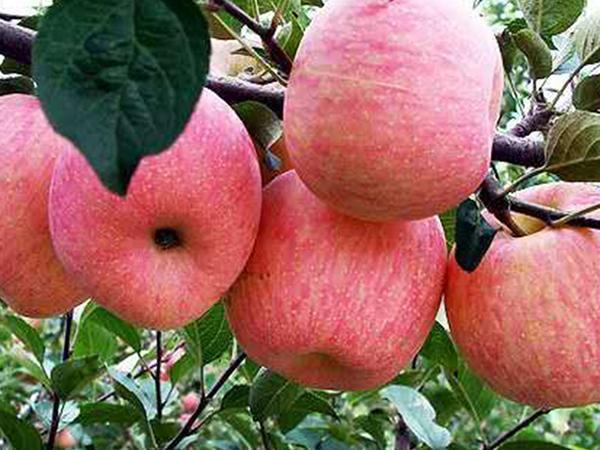apple: (45, 84, 263, 331), (225, 167, 447, 392), (282, 1, 502, 225), (440, 183, 600, 407)
